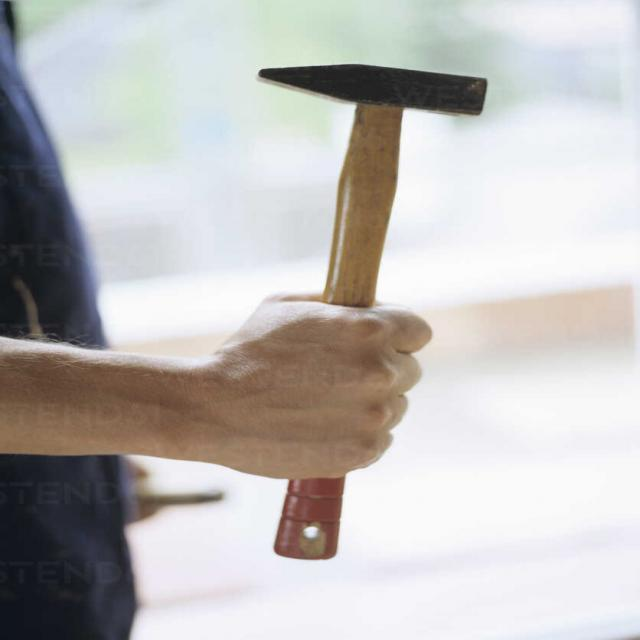hammer: (234, 57, 501, 570)
